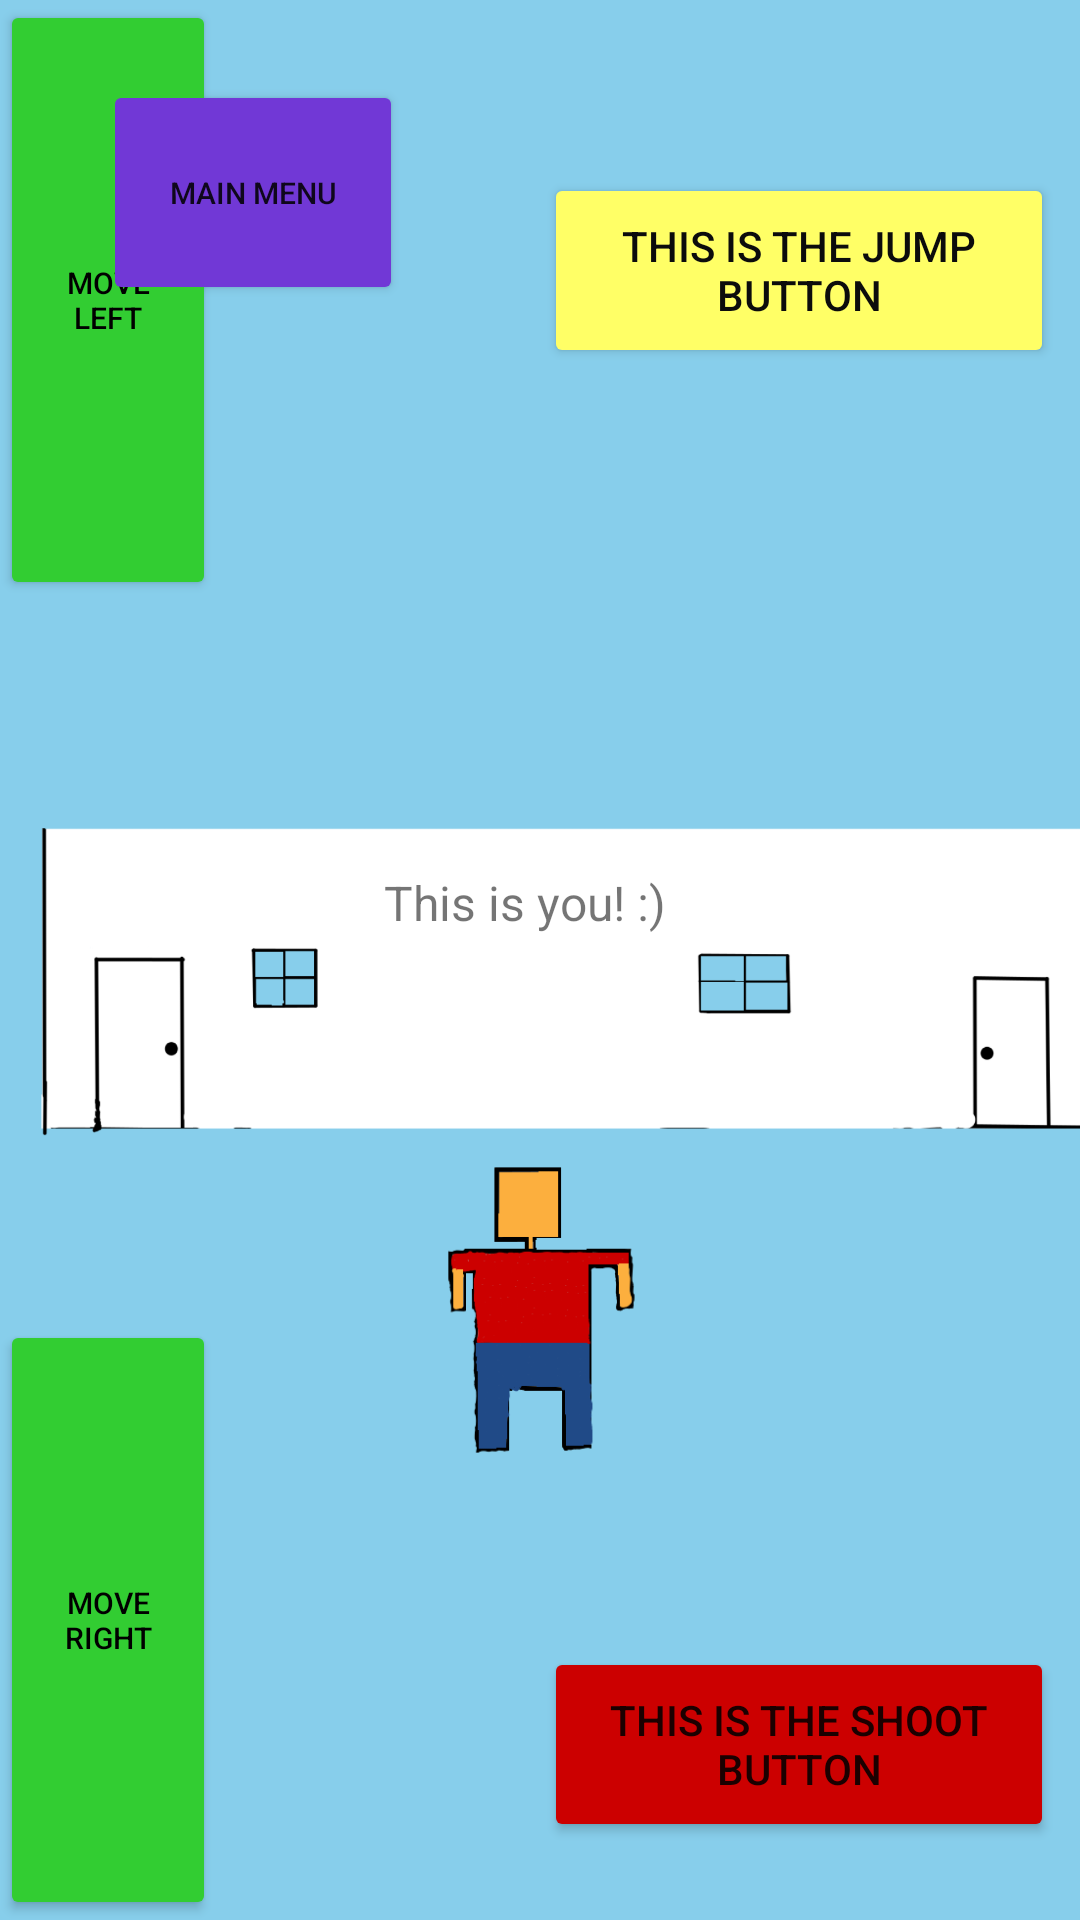

Named icons in this screenshot (1080*1920) and their bounding boxes, bbox(x1, y1, x2, y2):
character: bbox(448, 1167, 635, 1453)
